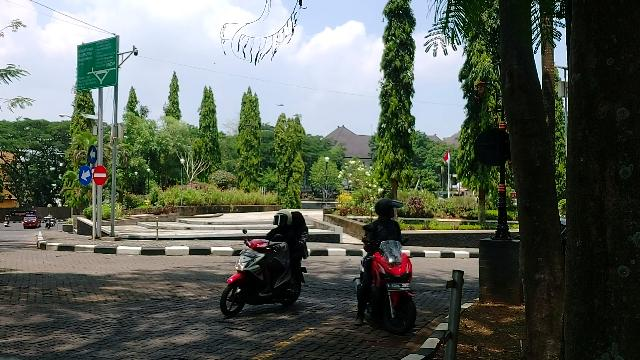helm: (377, 200, 404, 219), (274, 210, 292, 226)
motor: (222, 241, 309, 319), (355, 241, 418, 331)
non-helm: (293, 213, 304, 224)
